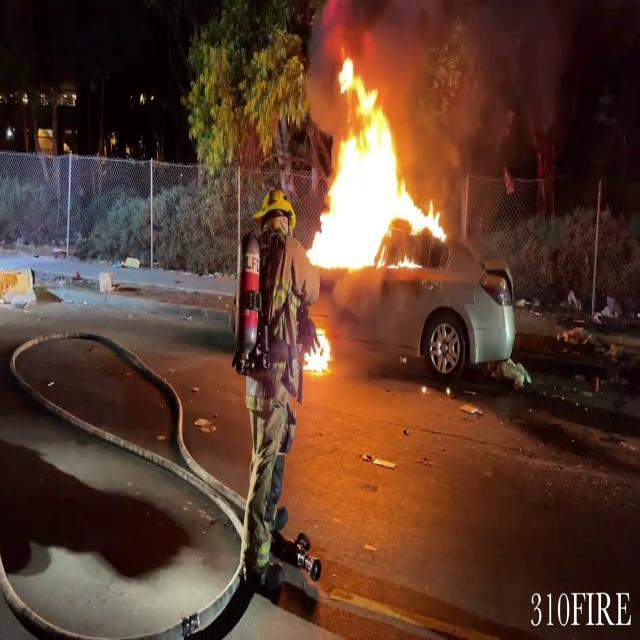Fire: (306, 51, 450, 274), (302, 316, 336, 381)
